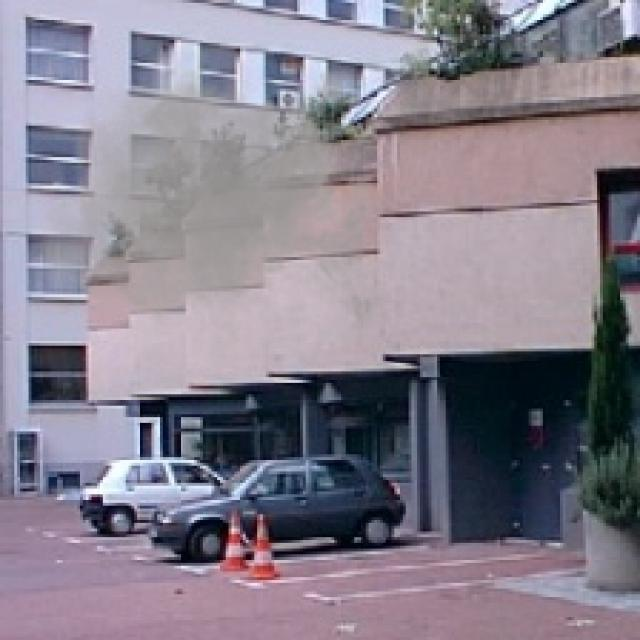smoke: (34, 17, 394, 383)
